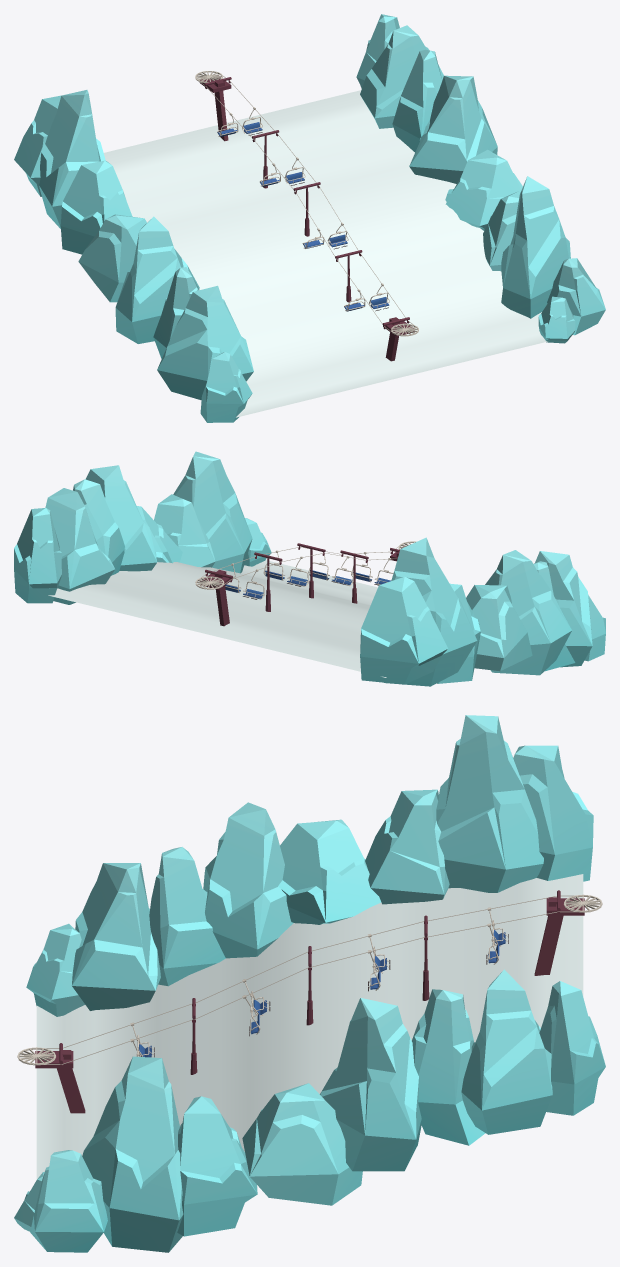
Rendered from Snow_Mountain.fbx.
The picture shows the model from 3 angles, top to bottom: view 1: azimuth 30°, elevation 25°; view 2: azimuth 150°, elevation 25°; view 3: azimuth 270°, elevation 25°; orthographic projection. The views are drawn at different scales.
Parts seen in each view (by area): view 1: Lane, Mountain, Ski_Slope, Lift; view 2: Mountain, Lane, Ski_Slope, Lift; view 3: Mountain, Lane, Ski_Slope, Lift.
Boxes of the visible parts, left/top/right/bottom form: Lane: left=103, top=90, right=573, bottom=417; Mountain: left=14, top=14, right=605, bottom=422; Ski_Slope: left=195, top=71, right=418, bottom=336; Lift: left=199, top=75, right=414, bottom=361; Mountain: left=14, top=451, right=605, bottom=686; Lane: left=48, top=560, right=386, bottom=677; Ski_Slope: left=195, top=541, right=416, bottom=599; Lift: left=200, top=543, right=403, bottom=626; Mountain: left=14, top=715, right=605, bottom=1252; Lane: left=36, top=874, right=583, bottom=1179; Ski_Slope: left=17, top=894, right=602, bottom=1065; Lift: left=35, top=890, right=584, bottom=1113.
Size of the model in its own units: 15.75 by 7.53 by 13.51.
